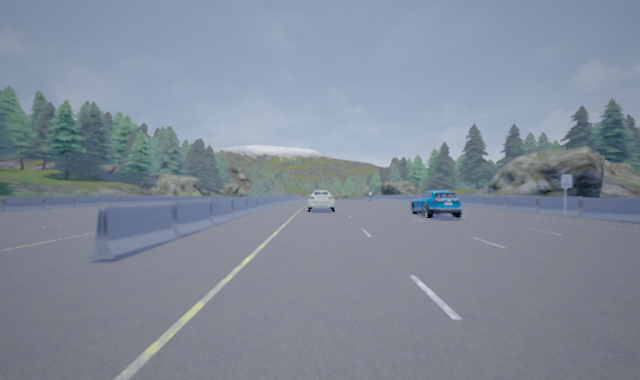vehicle: (410, 189, 461, 219), (306, 190, 335, 212)
